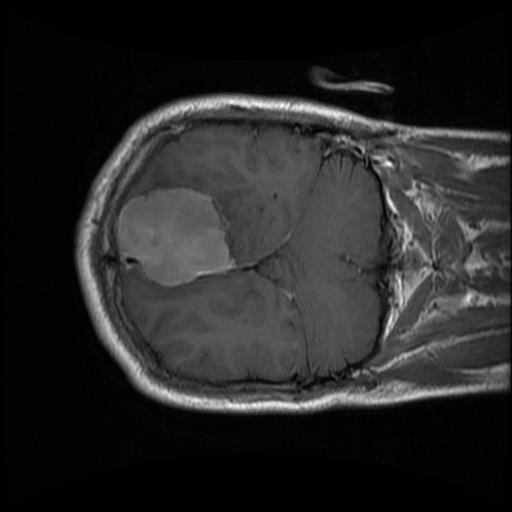meningioma: (116, 188, 229, 286)
